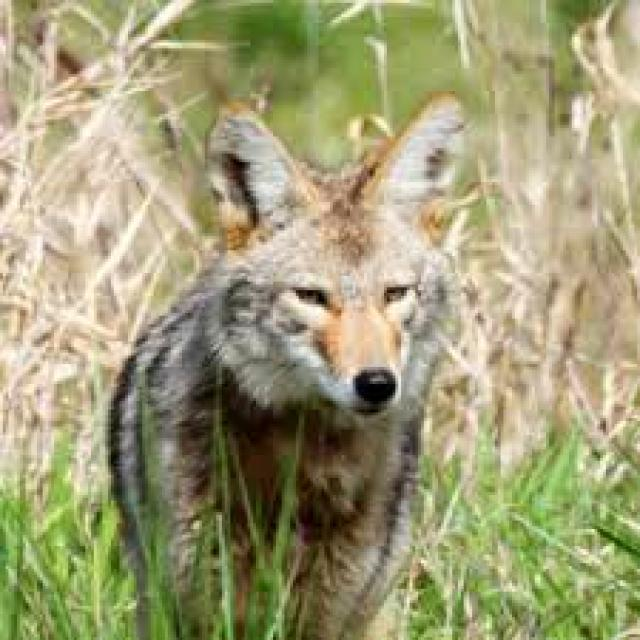coyote: (108, 97, 461, 637)
